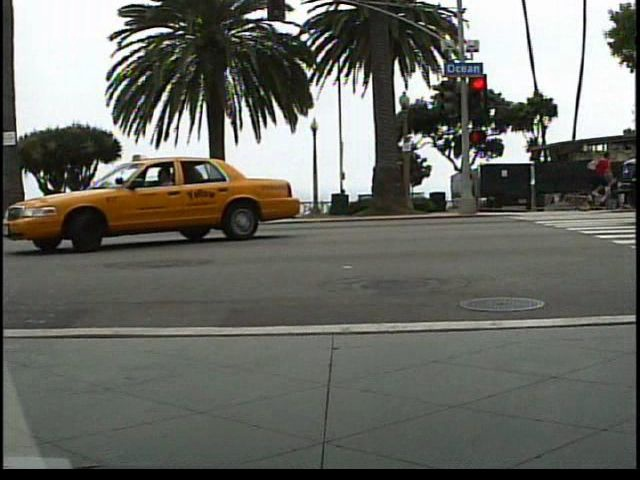person: (582, 151, 612, 203)
